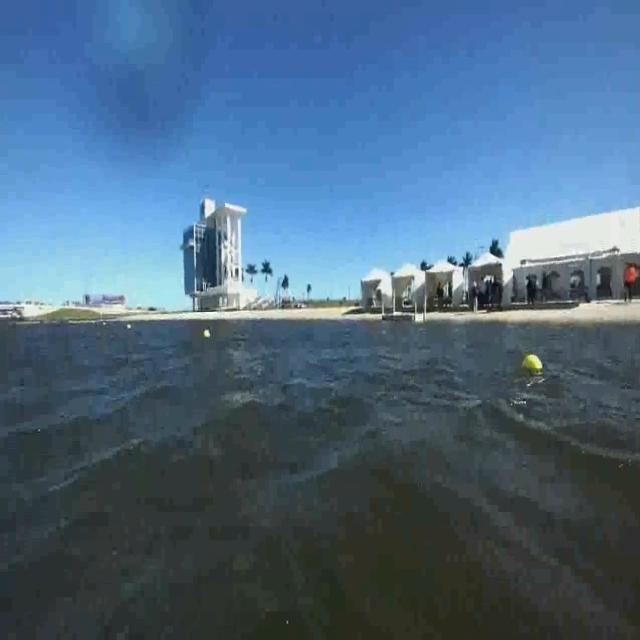yellow-buoy: (524, 355, 546, 372), (203, 327, 212, 340)
